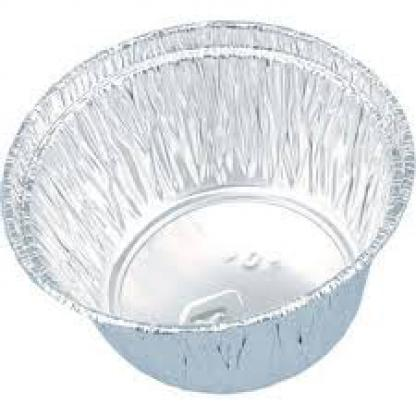Compsot: (0, 20, 414, 390)
